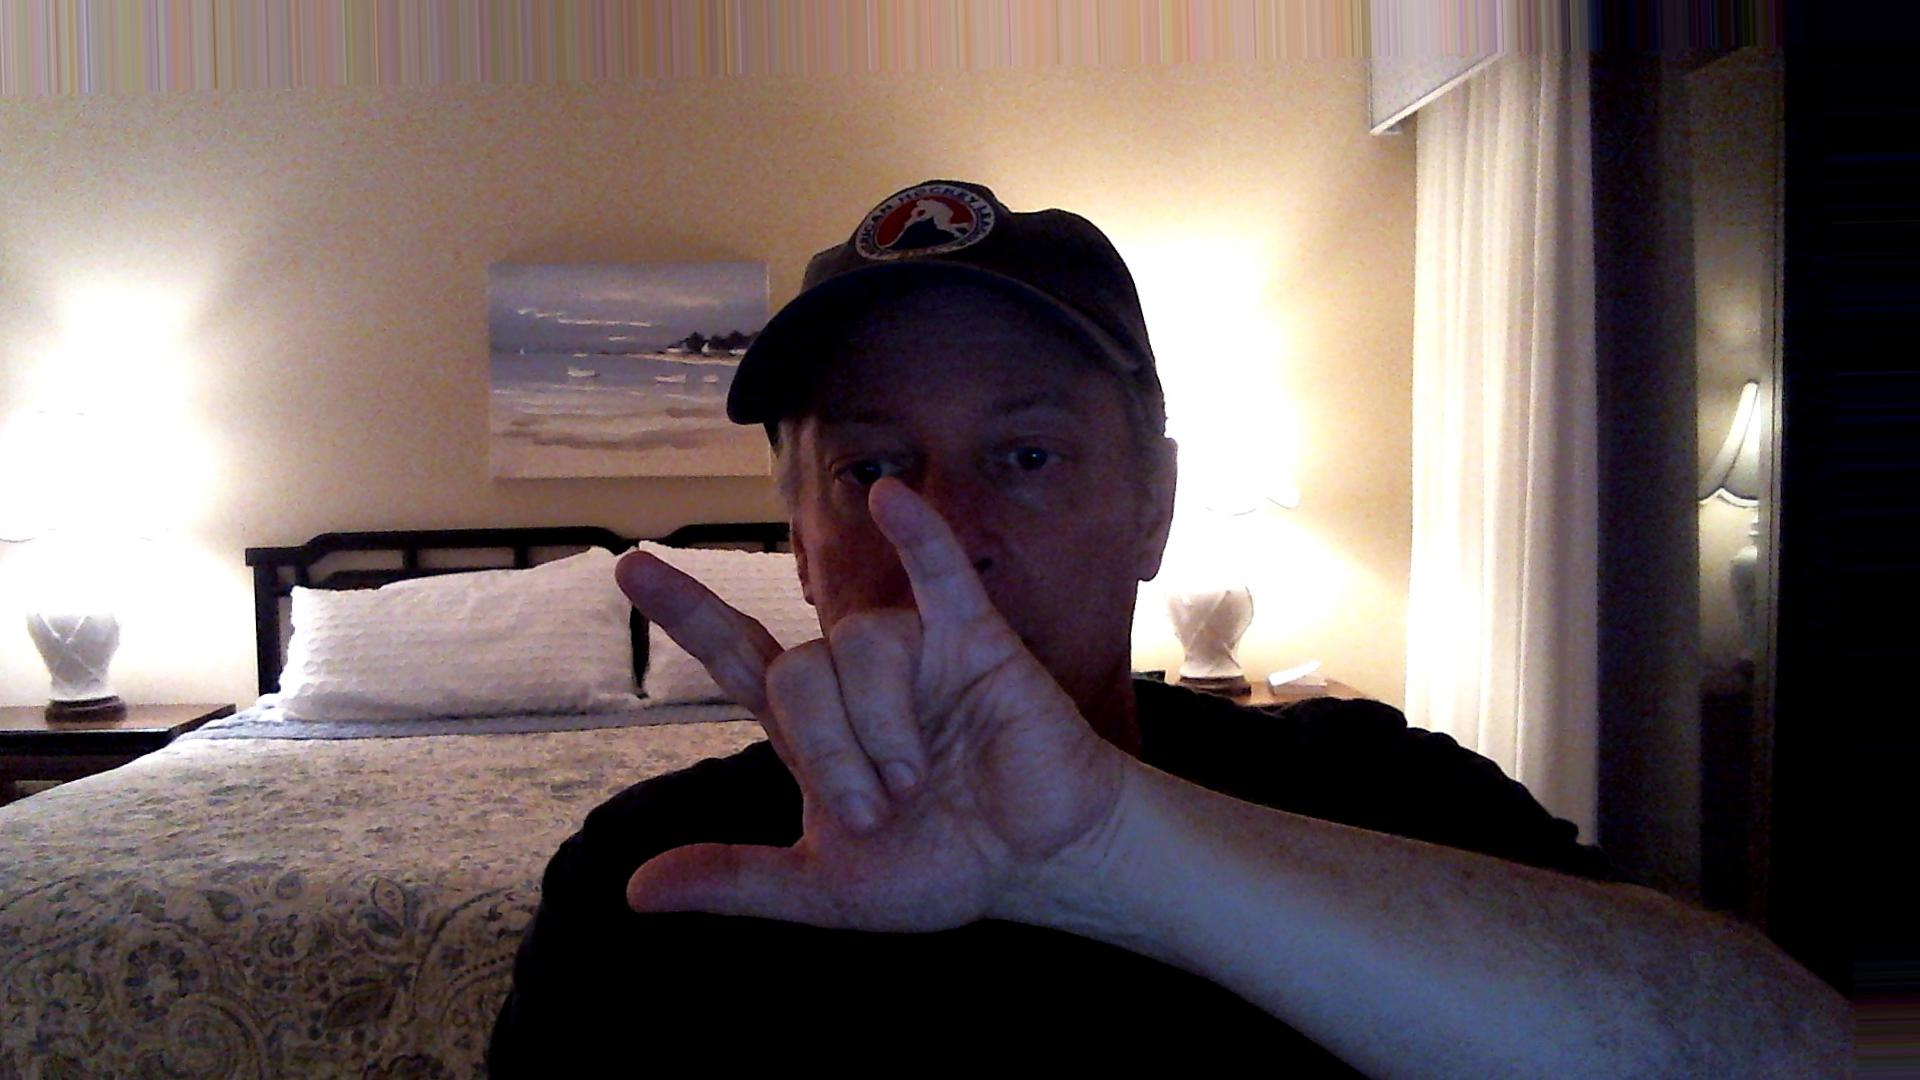I Love You: (593, 465, 1147, 960)
